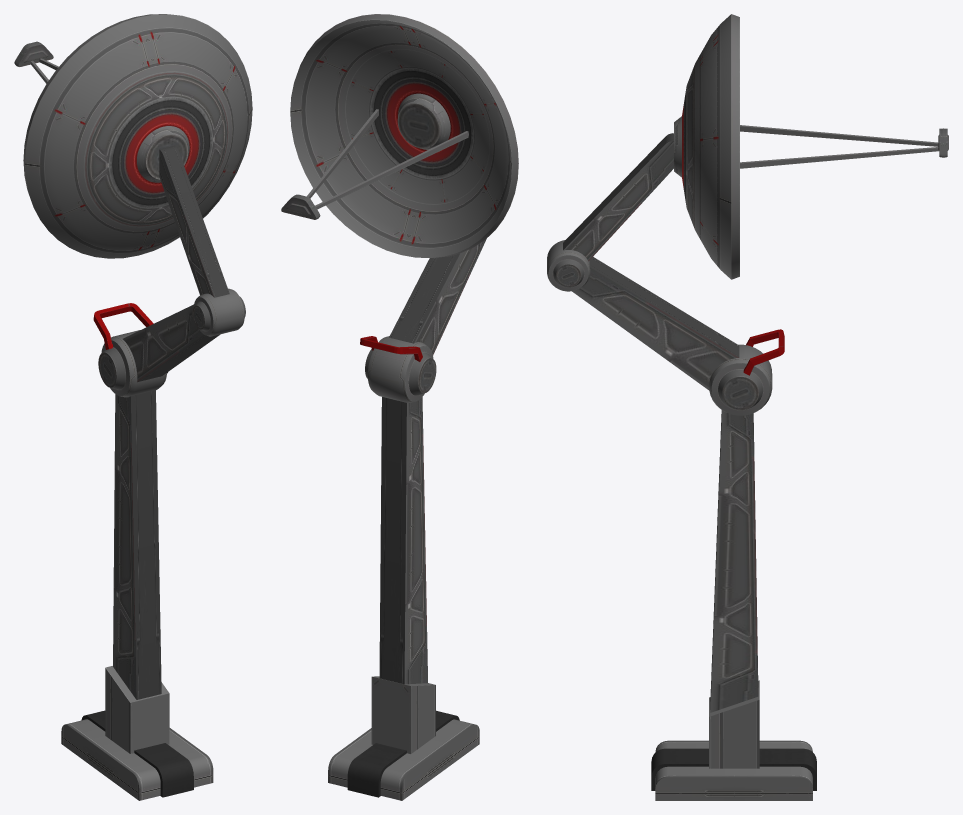
3 views of the same model, side by side, from view 1: azimuth 30°, elevation 25°; view 2: azimuth 150°, elevation 25°; view 3: azimuth 270°, elevation 25° (orthographic).
Visible parts, largest first — view 1: Prop_SatelliteDish; view 2: Prop_SatelliteDish; view 3: Prop_SatelliteDish.
Boxes of the visible parts, x1=… form: Prop_SatelliteDish: x1=14, y1=14, x2=252, y2=800; Prop_SatelliteDish: x1=281, y1=14, x2=518, y2=800; Prop_SatelliteDish: x1=547, y1=14, x2=948, y2=800.
Bounding box in the file's own units: 1.29 × 4.06 × 1.95.
Materials: 3 (3 with a texture image).
